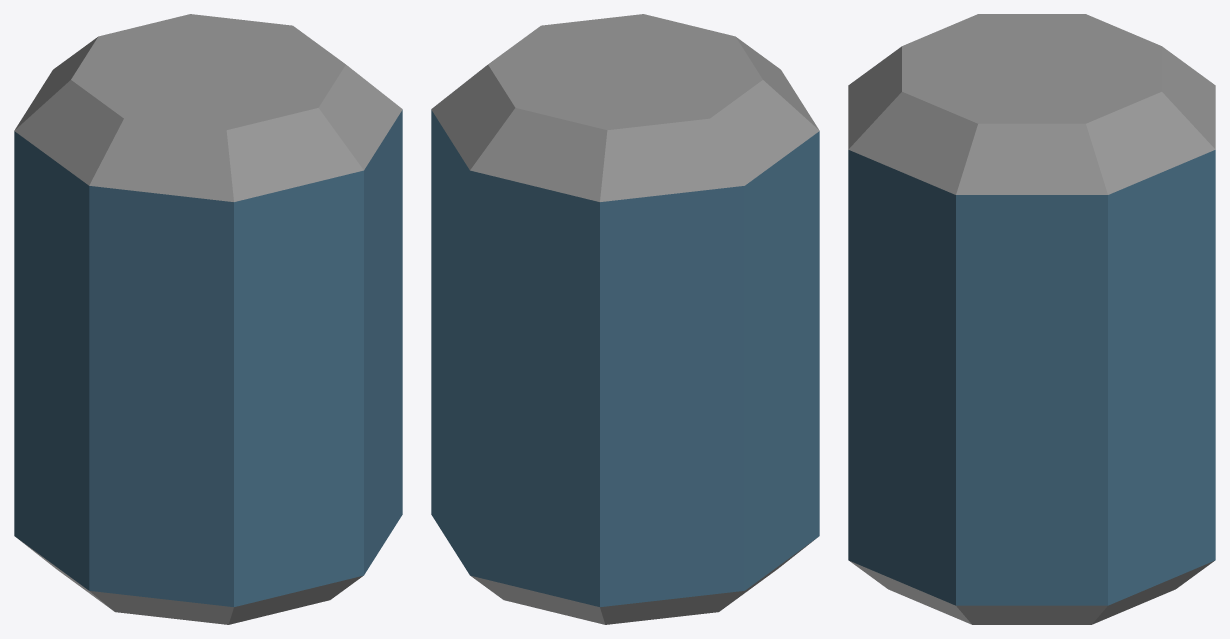
File: SodaCan.fbx
3 views of the same model, side by side, from view 1: azimuth 30°, elevation 25°; view 2: azimuth 150°, elevation 25°; view 3: azimuth 270°, elevation 25° (orthographic).
Parts seen in each view (by area): view 1: Circle; view 2: Circle; view 3: Circle.
Part boxes in pixels (x1=…): Circle: x1=14, y1=14, x2=402, y2=624; Circle: x1=431, y1=14, x2=819, y2=624; Circle: x1=848, y1=14, x2=1215, y2=624.
Size of the model in its own units: 18.48 by 27.5 by 18.48.
